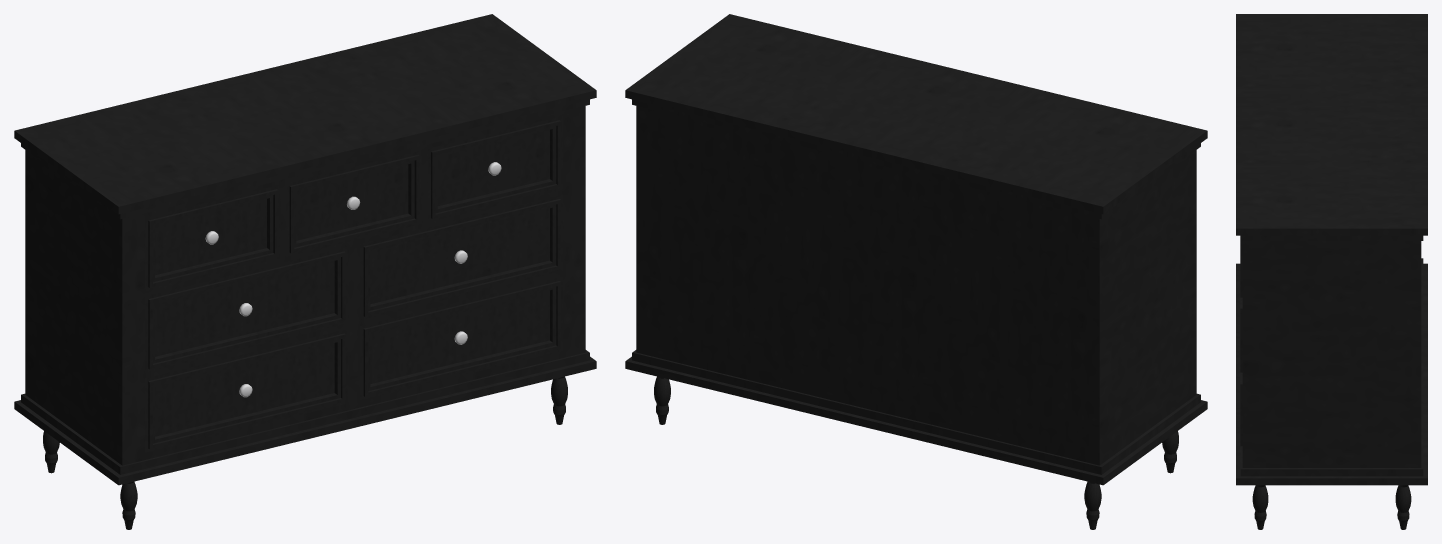
The model's file is Drawer39.fbx.
3 views of the same model, side by side, from view 1: azimuth 30°, elevation 25°; view 2: azimuth 150°, elevation 25°; view 3: azimuth 270°, elevation 25° (orthographic). The views are drawn at different scales.
Visible parts, largest first — view 1: Drawer39_Body, Drawer39_5, Drawer39_4, Drawer39_6, Drawer39_7, Drawer39_2, Drawer39_1, Drawer39_3; view 2: Drawer39_Body; view 3: Drawer39_Body.
Part boxes in pixels (left/top/right/bottom): Drawer39_Body: left=14, top=14, right=596, bottom=529; Drawer39_5: left=360, top=194, right=562, bottom=320; Drawer39_4: left=145, top=247, right=347, bottom=372; Drawer39_6: left=145, top=329, right=347, bottom=452; Drawer39_7: left=360, top=276, right=562, bottom=400; Drawer39_2: left=286, top=150, right=421, bottom=256; Drawer39_1: left=145, top=185, right=280, bottom=291; Drawer39_3: left=427, top=116, right=562, bottom=222; Drawer39_Body: left=625, top=14, right=1207, bottom=529; Drawer39_Body: left=1236, top=14, right=1427, bottom=529.
Size of the model in its own units: 157 by 106 by 59.27.
